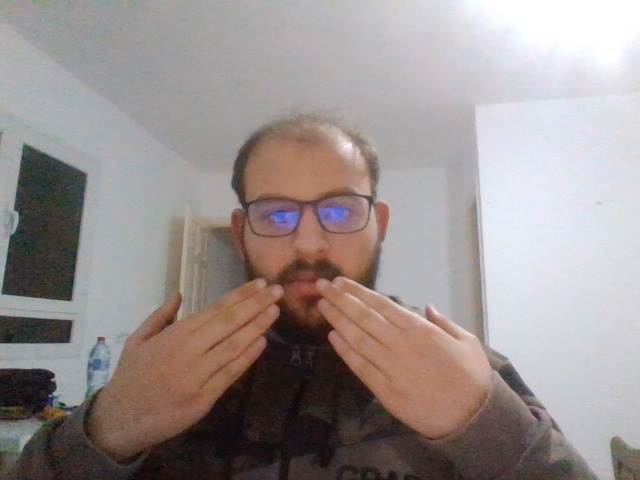Thank You: (108, 274, 487, 440)
